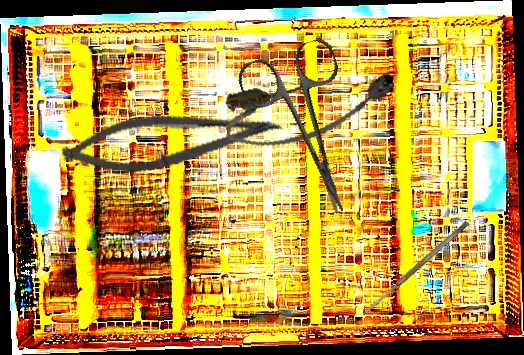Cannula: (219, 62, 402, 156)
Iris Scissors: (233, 35, 384, 230)
Micro Scissor: (56, 89, 288, 187)
Spatula Surgical: (362, 219, 471, 316)
